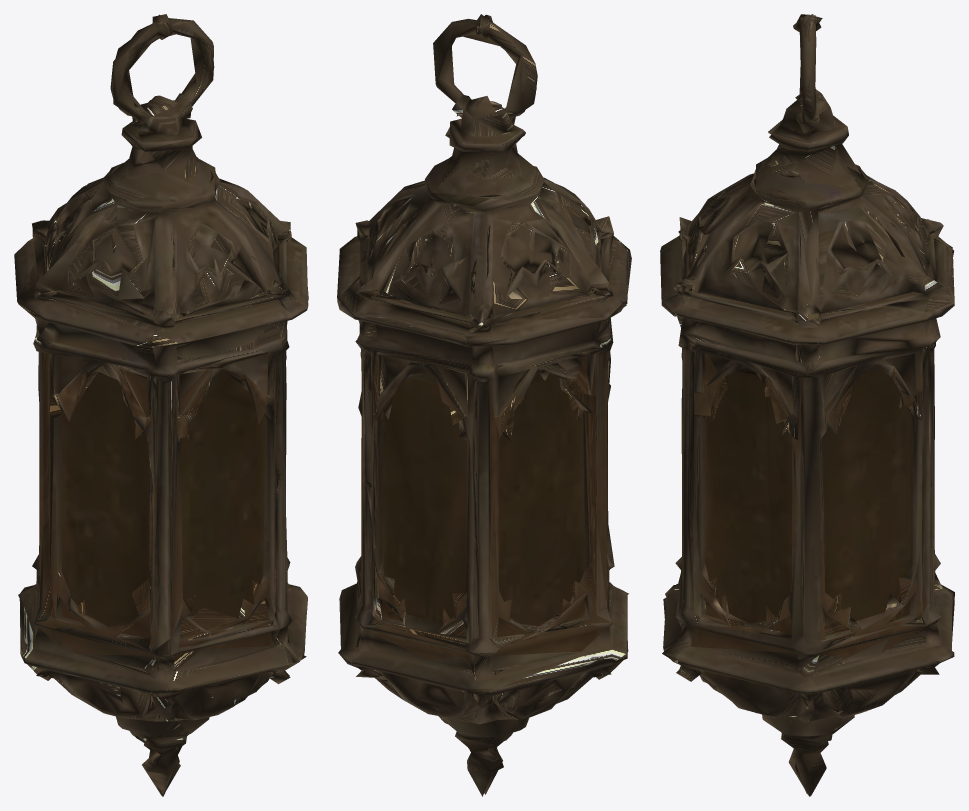
File: lantern_rig.glb
The picture shows the model from 3 angles, left to right: view 1: azimuth 30°, elevation 25°; view 2: azimuth 150°, elevation 25°; view 3: azimuth 270°, elevation 25°; orthographic projection.
Parts seen in each view (by area): view 1: prop.geo; view 2: prop.geo; view 3: prop.geo.
Part boxes in pixels (<box>): prop.geo: <box>14,14,308,796</box>; prop.geo: <box>337,14,631,796</box>; prop.geo: <box>660,14,954,796</box>.
Bounding box in the file's own units: 0.375 × 0.9996 × 0.3407.
Materials: 2 (2 with a texture image).
